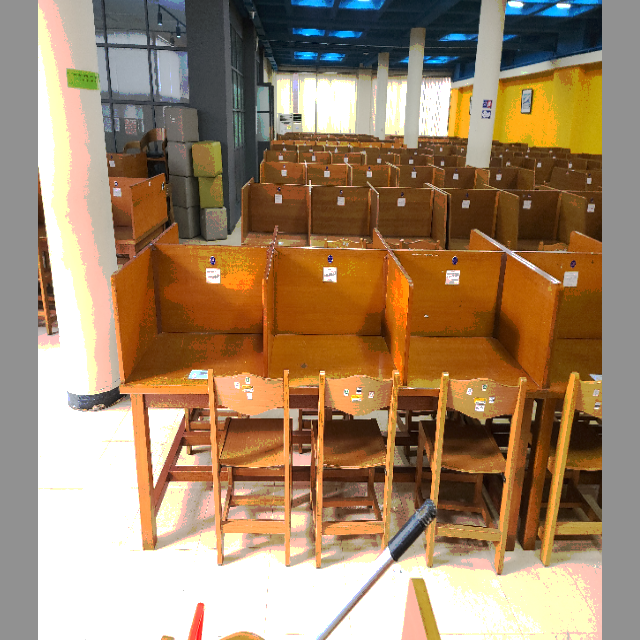empty: (119, 244, 261, 463), (412, 248, 541, 475), (267, 252, 408, 456)
